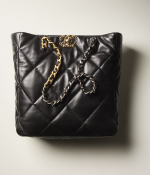channel: (11, 24, 121, 138), (74, 84, 111, 130), (47, 42, 72, 105)
